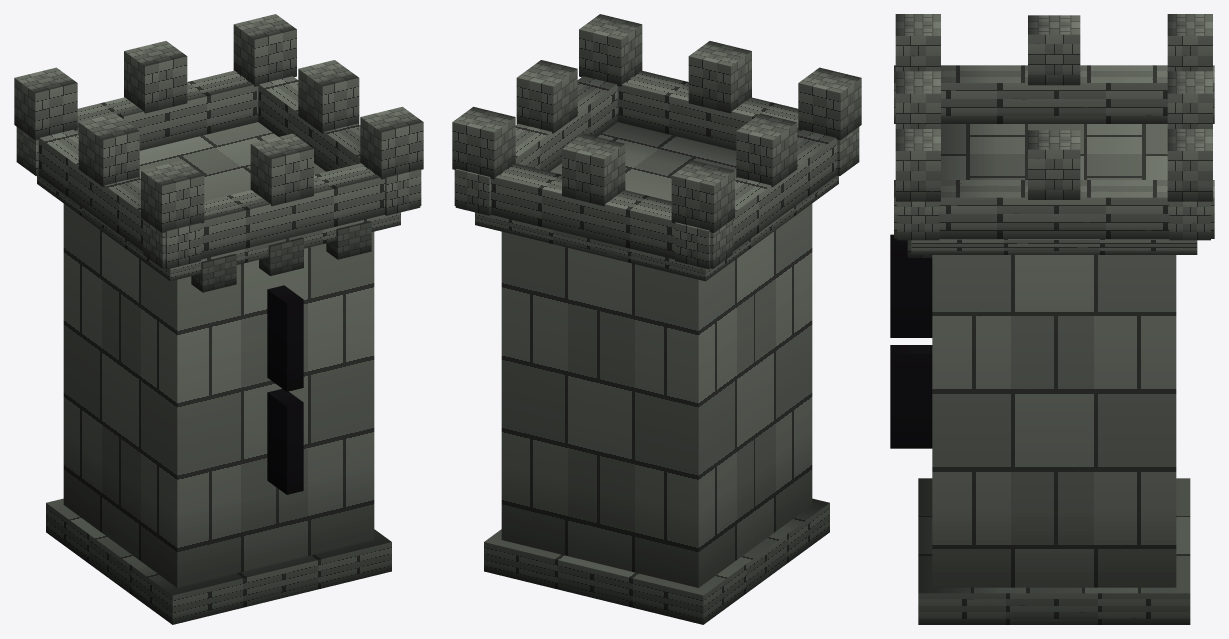
The model's file is tower_square.gltf.
The picture shows the model from 3 angles, left to right: view 1: azimuth 30°, elevation 25°; view 2: azimuth 150°, elevation 25°; view 3: azimuth 270°, elevation 25°; orthographic projection. The views are drawn at different scales.
Visible parts, largest first — view 1: tower_square; view 2: tower_square; view 3: tower_square.
Part boxes in pixels (left/top/right/bottom): tower_square: left=14, top=14, right=423, bottom=624; tower_square: left=452, top=14, right=861, bottom=624; tower_square: left=890, top=14, right=1214, bottom=624.
Bounding box in the file's own units: 0.93 × 1.54 × 0.93.
1 material, 1 textured.
